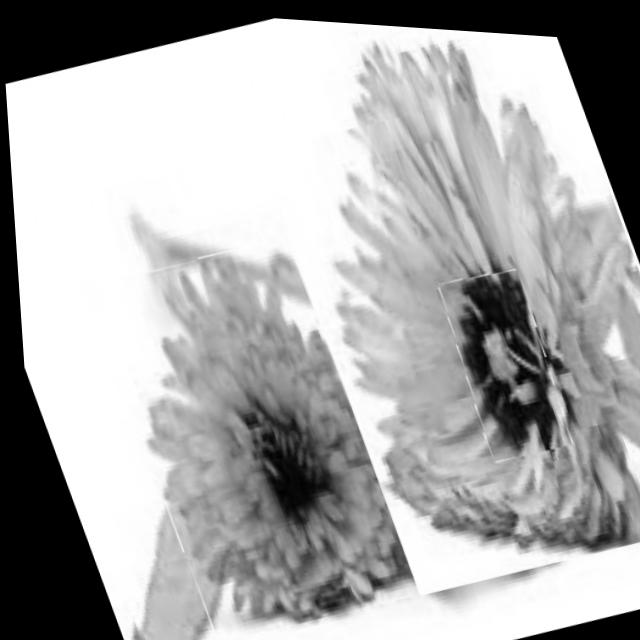Flower: (225, 12, 640, 605), (77, 214, 439, 640), (427, 254, 574, 460)
